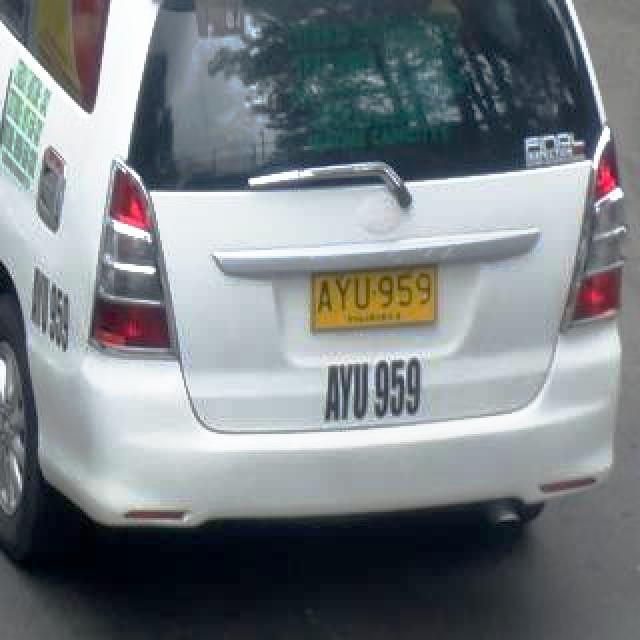license_plate: (299, 257, 450, 343)
